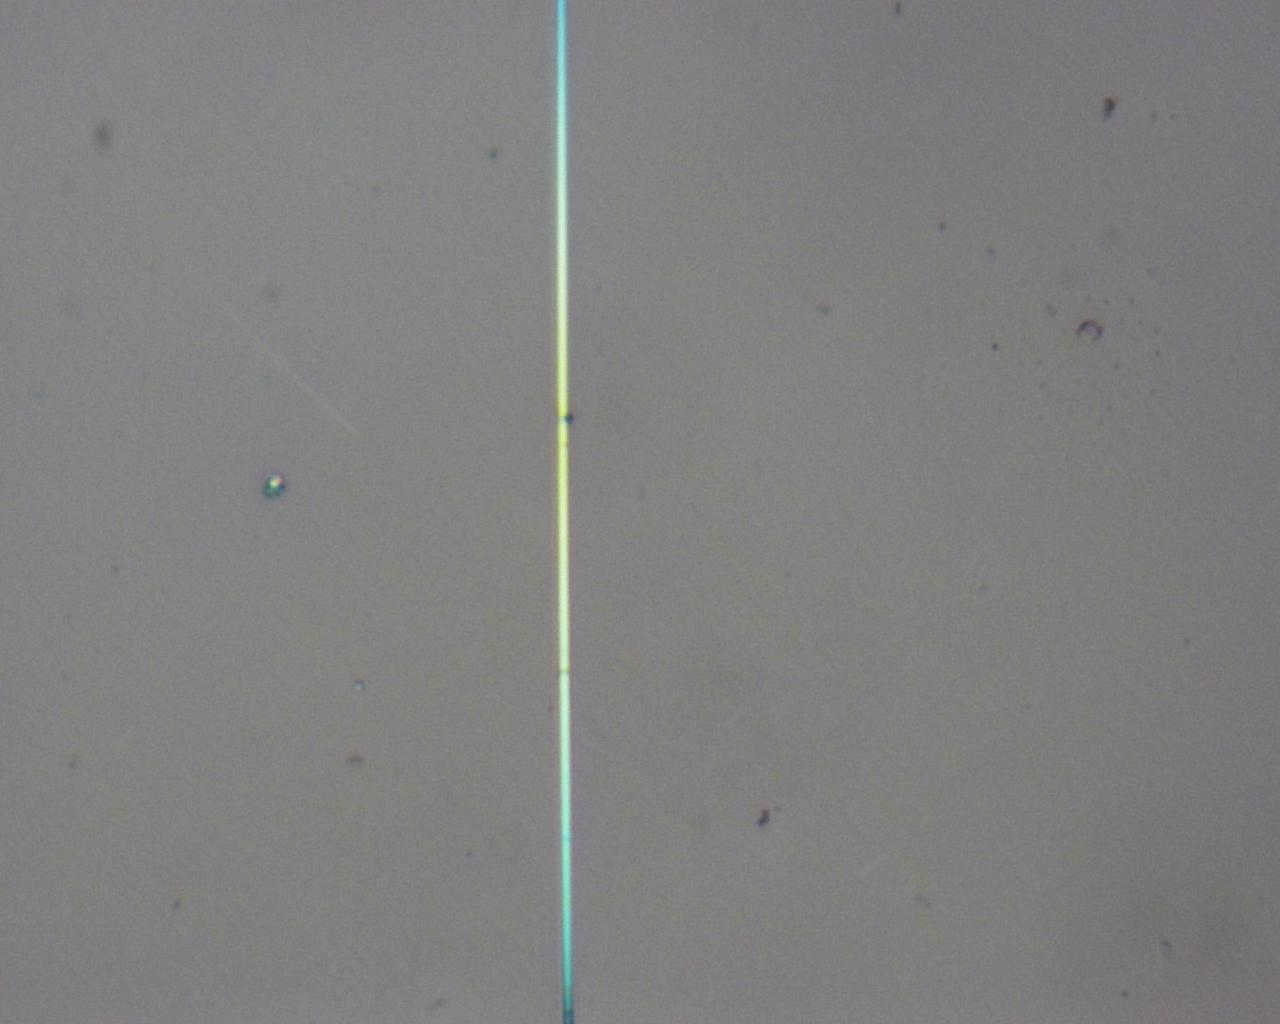fiber: (554, 0, 574, 1024)
